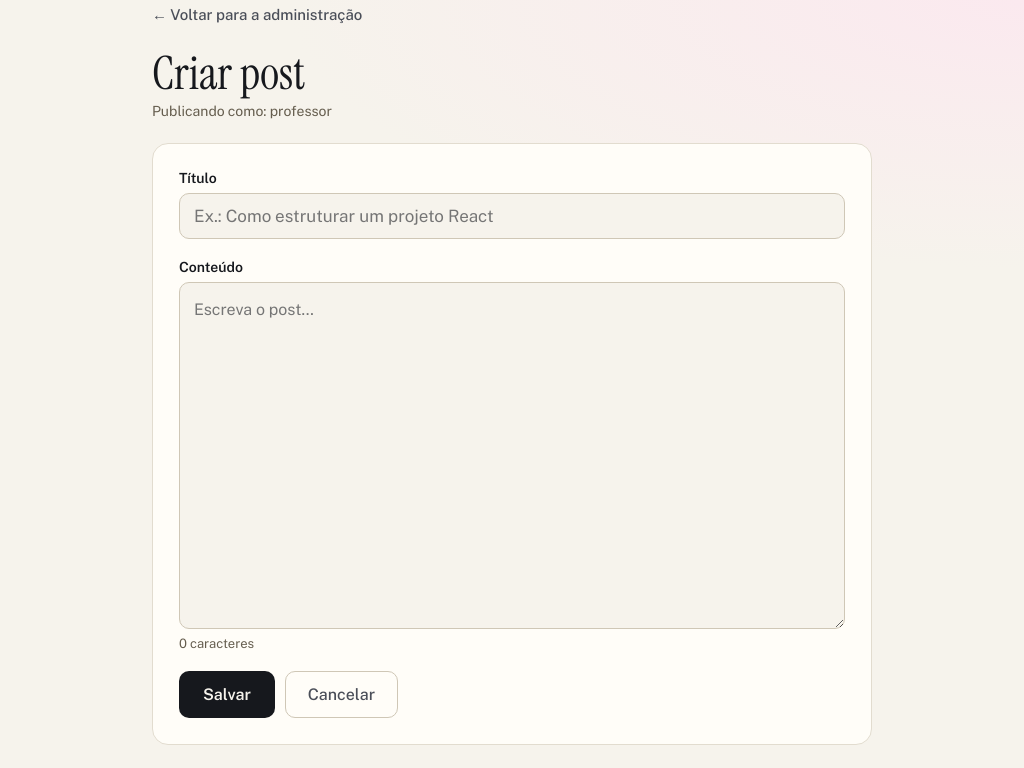
Test case: "Criar outro" fecha o dialogo e limpa o formulario, sem sair da tela
Step 1. Type "Titulo" into the field labelled "Título" → (512, 216), box [179, 193, 845, 239]
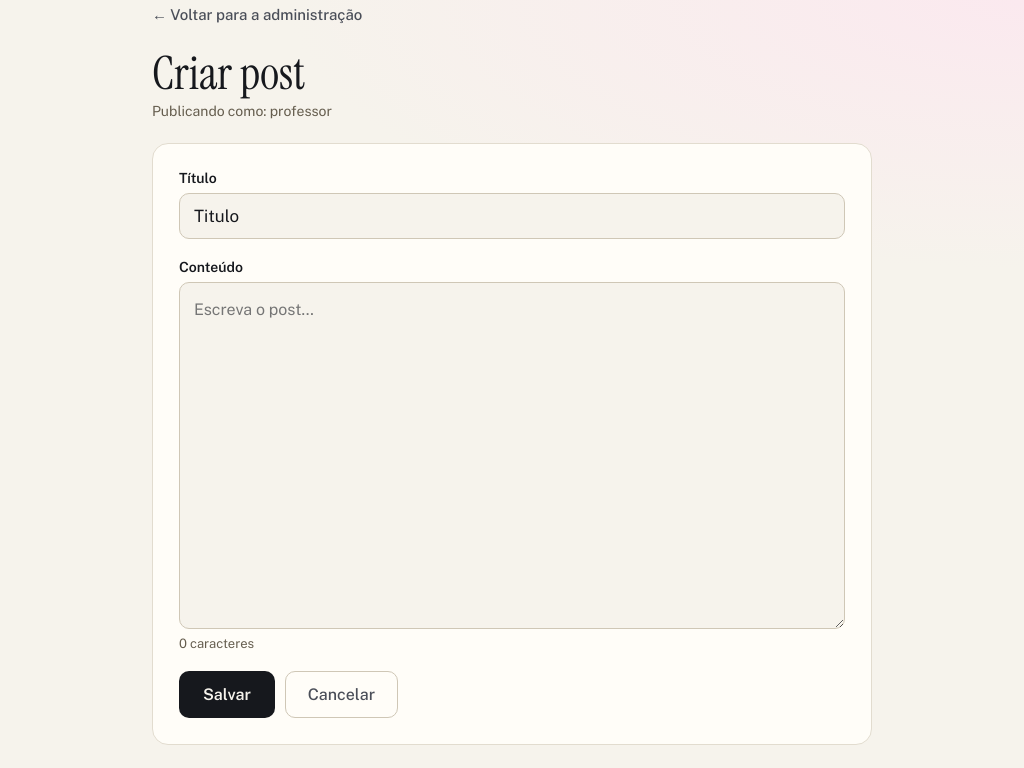
Step 2. Type "Conteudo" into the text box labelled "Conteúdo" → (512, 456), box [179, 282, 845, 629]
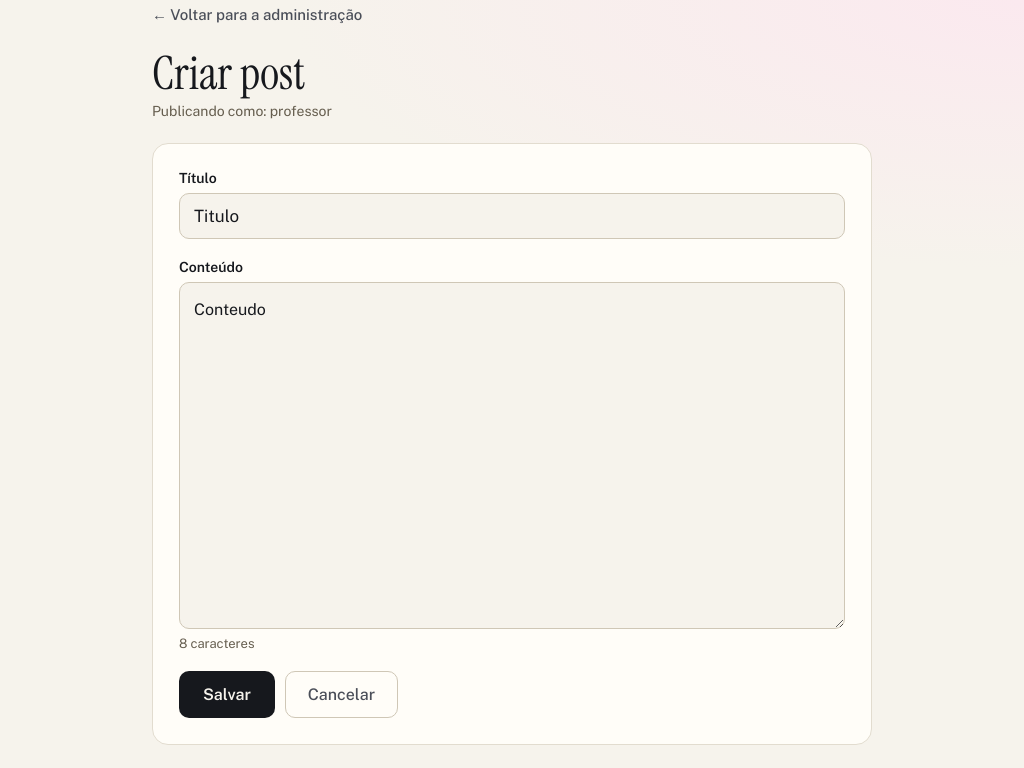
Step 3. Click the button "Salvar" → (227, 694), box [179, 671, 275, 718]
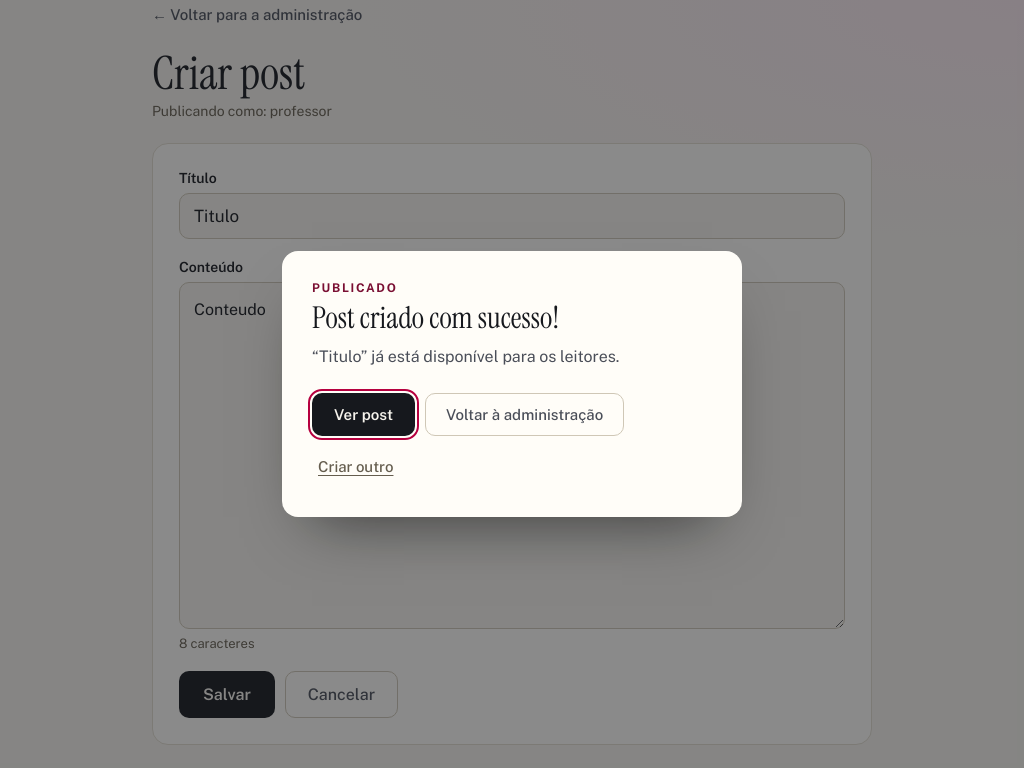
Step 4. Click the button "Criar outro" → (356, 467), box [312, 446, 400, 487]
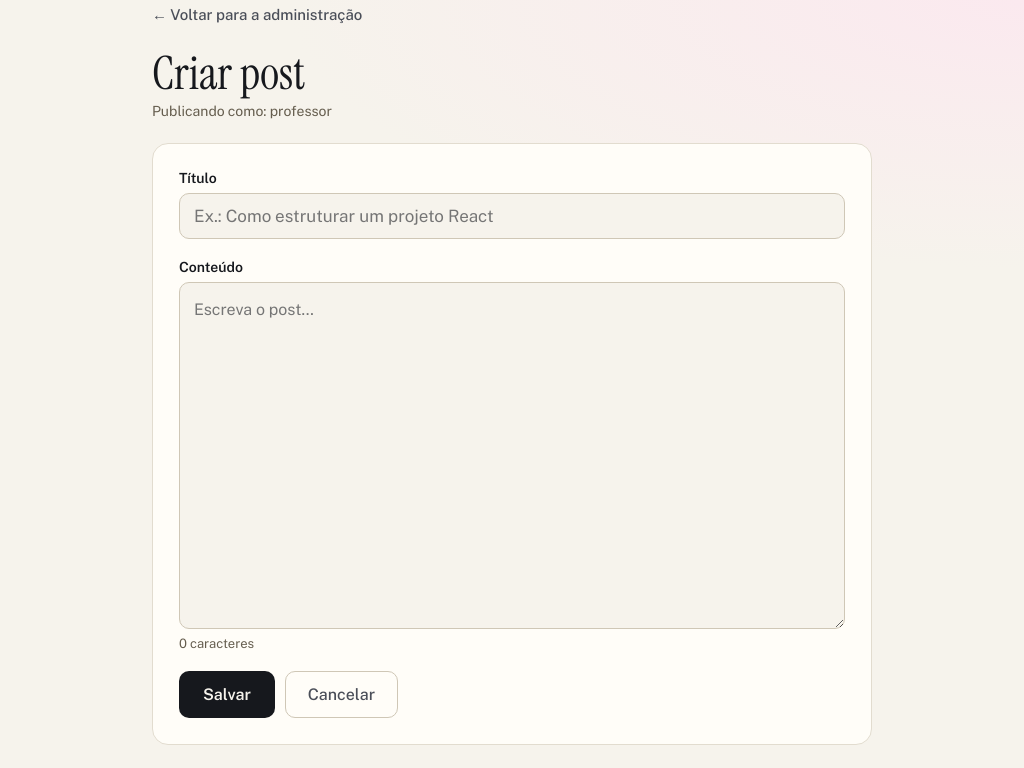
Result: the dialog is gone
Result: the field labelled "Título" is empty at [179, 193, 845, 239]
Result: the text box labelled "Conteúdo" is empty at [179, 282, 845, 629]
